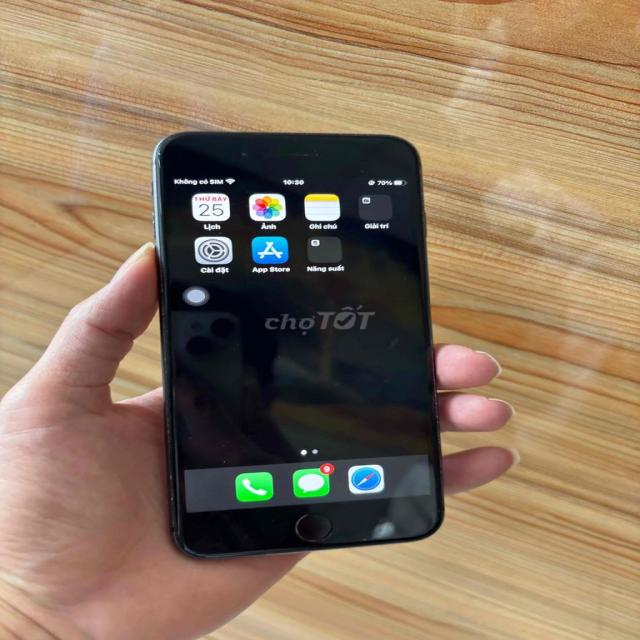gen_7_8: (126, 128, 465, 560)
